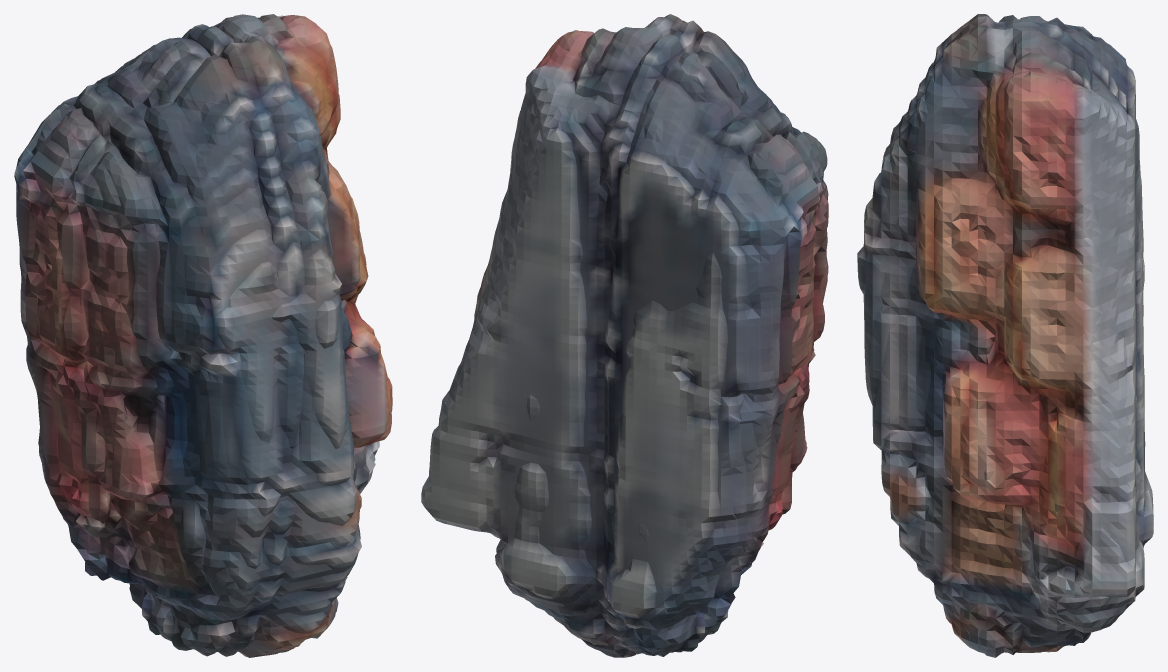
3 views of the same model, side by side, from view 1: azimuth 30°, elevation 25°; view 2: azimuth 150°, elevation 25°; view 3: azimuth 270°, elevation 25° (orthographic). The views are drawn at different scales.
Parts seen in each view (by area): view 1: world; view 2: world; view 3: world.
Part boxes in pixels (box(x1,y1,x2,y2)): world: box(14, 14, 392, 657); world: box(421, 14, 828, 657); world: box(857, 14, 1153, 657).
Size of the model in its own units: 0.6463 by 1.06 by 0.4619.
